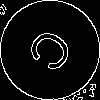C: (25, 25, 83, 81)
